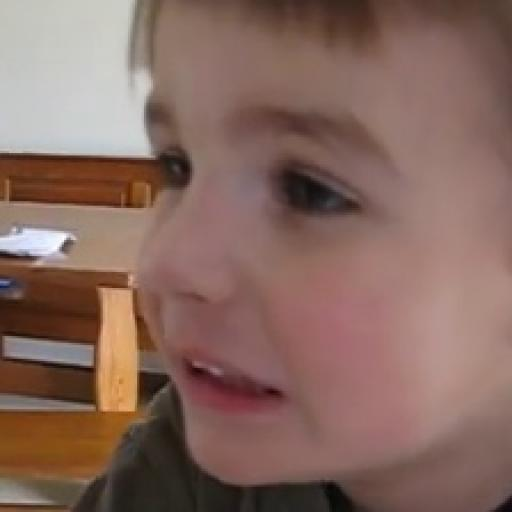Autism: (125, 0, 512, 509)
